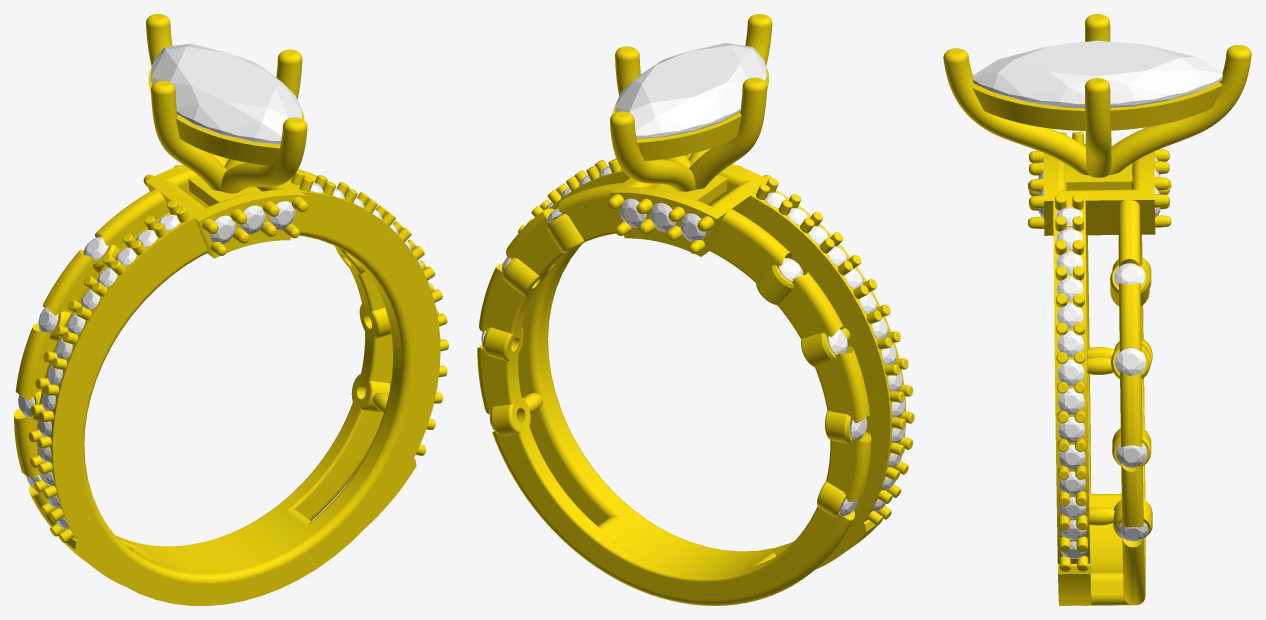
The model's file is 1787564249052-LLGCC338RG.glb.
3 views of the same model, side by side, from view 1: azimuth 30°, elevation 25°; view 2: azimuth 150°, elevation 25°; view 3: azimuth 270°, elevation 25° (orthographic). The views are drawn at different scales.
Visible parts, largest first — view 1: metal_1, gem-1; view 2: metal_1, gem-1; view 3: metal_1, gem-1, gem.016, gem.015, gem.017, gem.007, gem.006, gem.005, gem.008, gem.004, gem.009, gem.003 (+1 smaller).
Boxes of the visible parts, x1,y1,x2,y2 form: metal_1: (14, 14, 448, 605); gem-1: (151, 43, 301, 144); metal_1: (477, 14, 914, 605); gem-1: (615, 43, 766, 139); metal_1: (943, 14, 1251, 605); gem-1: (973, 40, 1222, 108); gem.016: (1115, 348, 1145, 375); gem.015: (1116, 443, 1147, 467); gem.017: (1114, 263, 1145, 286); gem.007: (1058, 388, 1084, 414); gem.006: (1058, 359, 1084, 385); gem.005: (1057, 331, 1083, 357); gem.008: (1058, 417, 1084, 442); gem.004: (1057, 303, 1083, 328); gem.009: (1059, 444, 1085, 469); gem.003: (1057, 276, 1083, 301).
Bounding box in the file's own units: 21.1 × 25.73 × 13.39.
